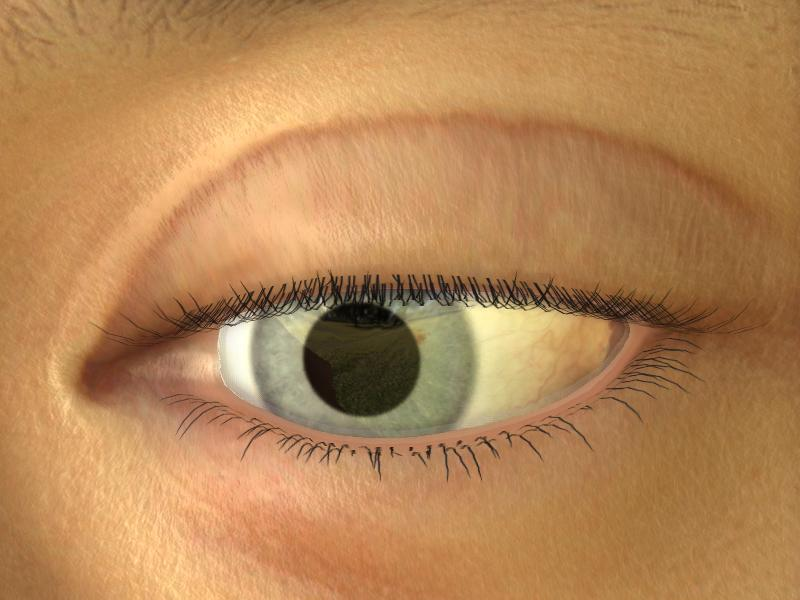eye: (248, 298, 479, 441)
